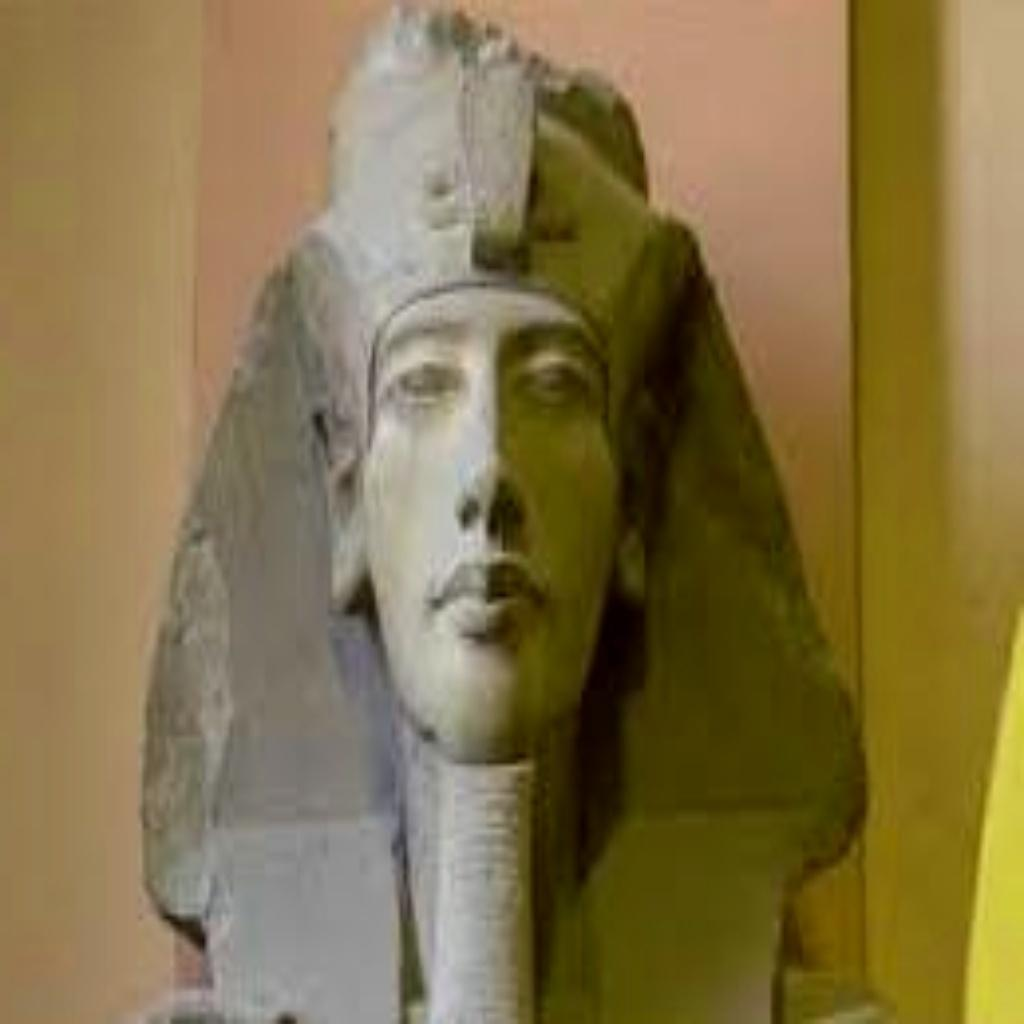Akhenaten: (130, 0, 874, 1018)
